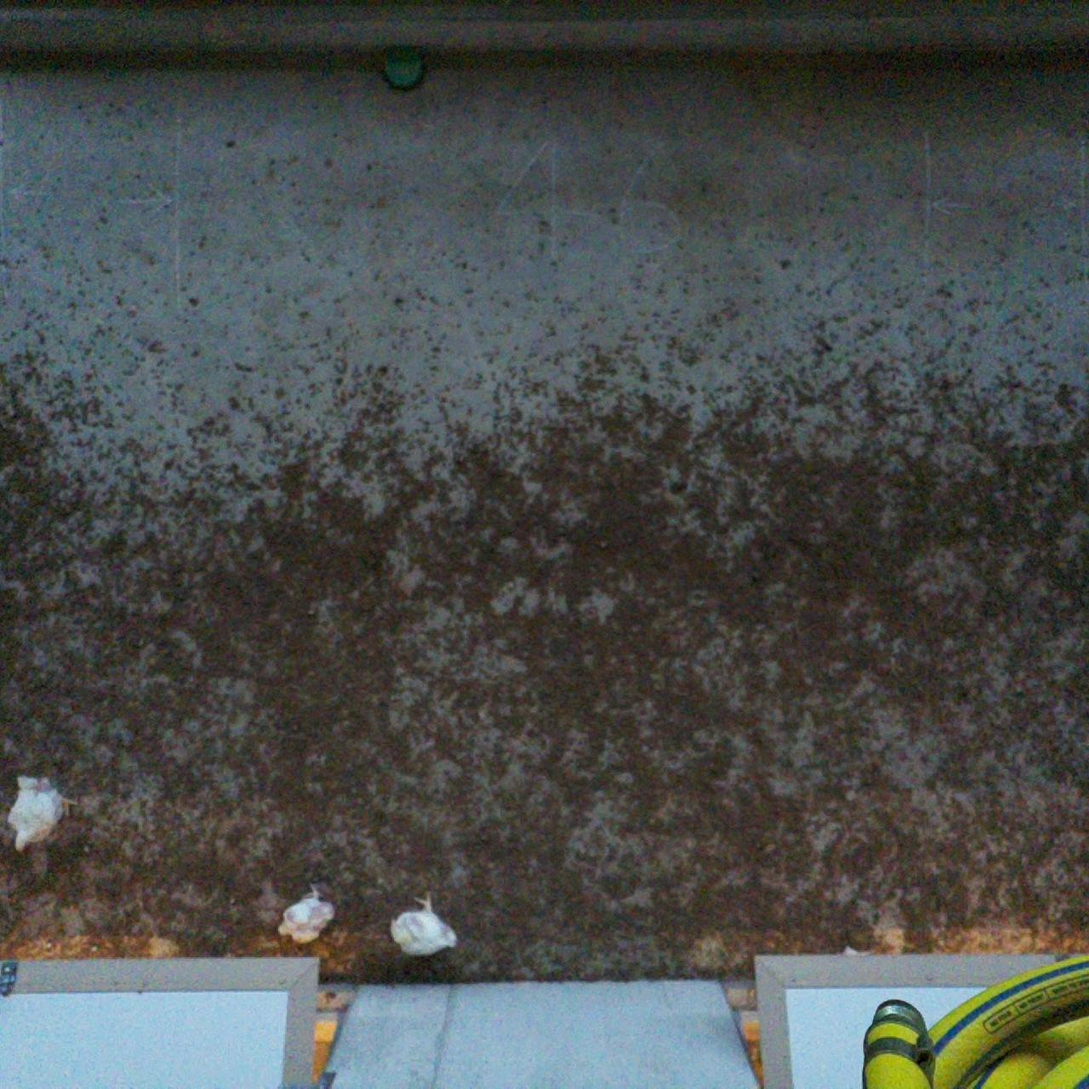chicken: (7, 771, 81, 853), (387, 889, 460, 959), (275, 877, 338, 944)
